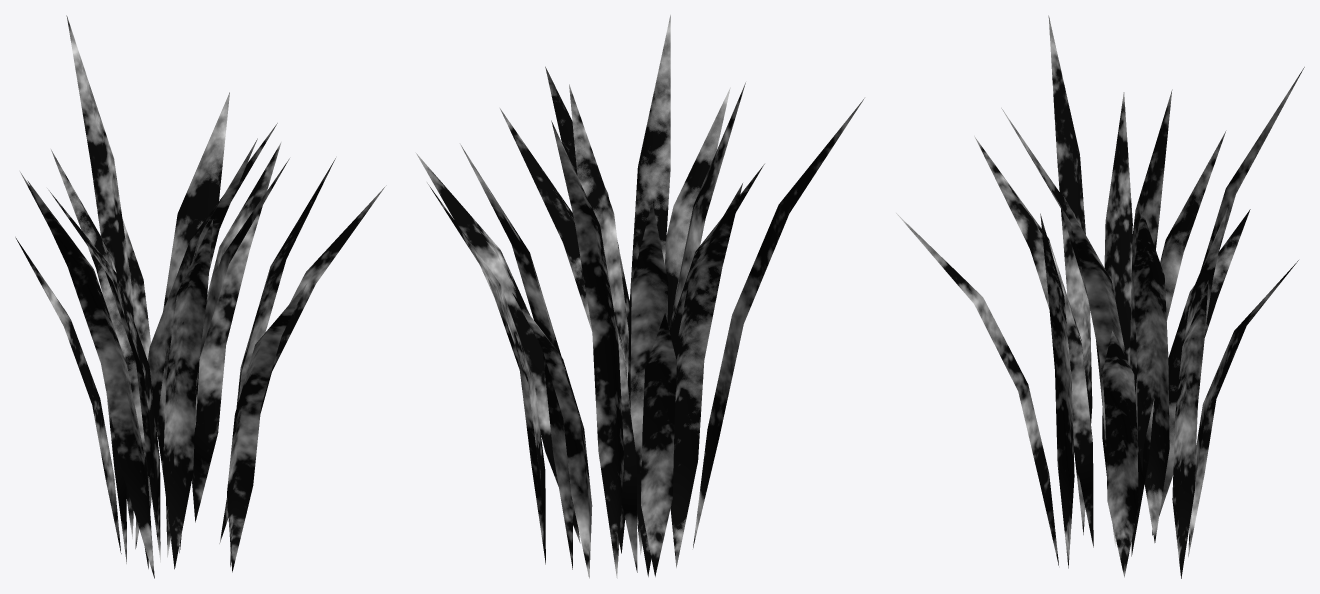
Rendered from StylizedGrassSmall.fbx.
3 renders of one model, left to right at view 1: azimuth 30°, elevation 25°; view 2: azimuth 150°, elevation 25°; view 3: azimuth 270°, elevation 25°, orthographic. The views are drawn at different scales.
Visible parts, largest first — view 1: StylizedGrassSmall_LOD0; view 2: StylizedGrassSmall_LOD0; view 3: StylizedGrassSmall_LOD0.
Part boxes in pixels (x1=…): StylizedGrassSmall_LOD0: x1=15, y1=15, x2=386, y2=578; StylizedGrassSmall_LOD0: x1=415, y1=15, x2=864, y2=578; StylizedGrassSmall_LOD0: x1=896, y1=15, x2=1304, y2=578.
Bounding box in the file's own units: 32.08 × 29.1 × 38.54.
1 material, 1 textured.
